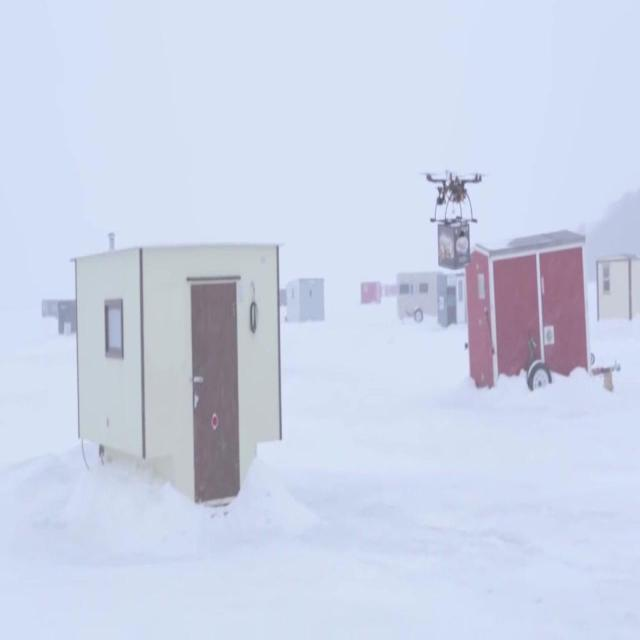drone: (421, 164, 486, 235)
